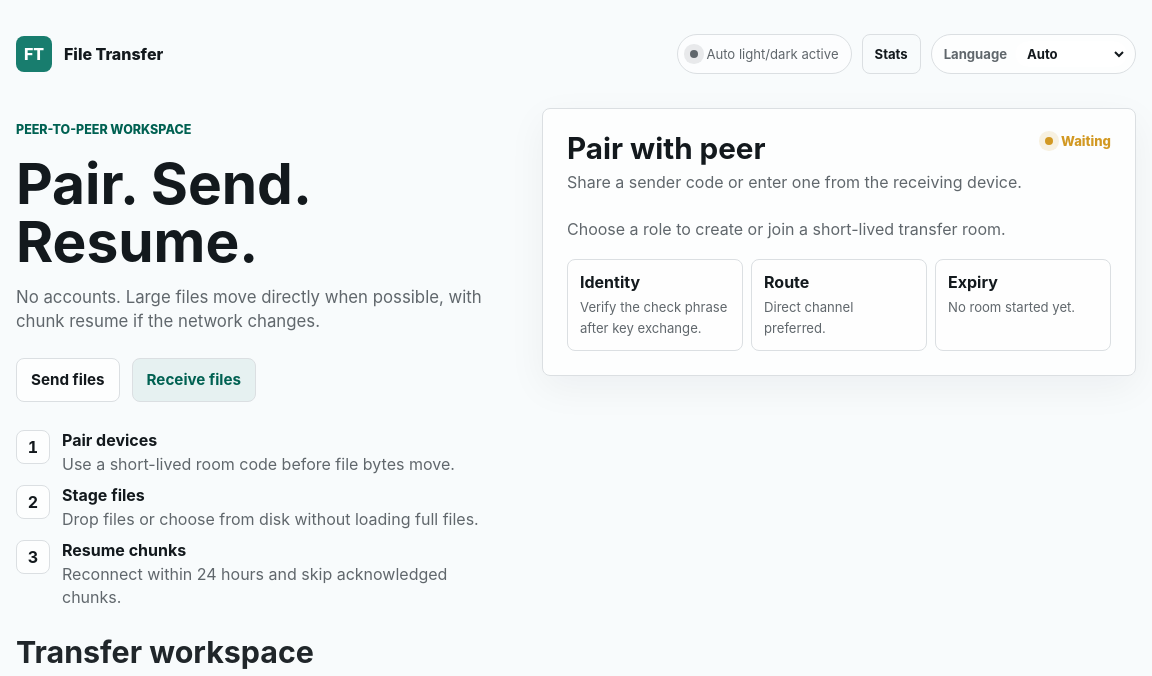
Test: App › shows pairing code input when receiving files
The image size is (1152, 676).
Click the button "Receive files": coordinates (194, 380) [132,358,256,402]
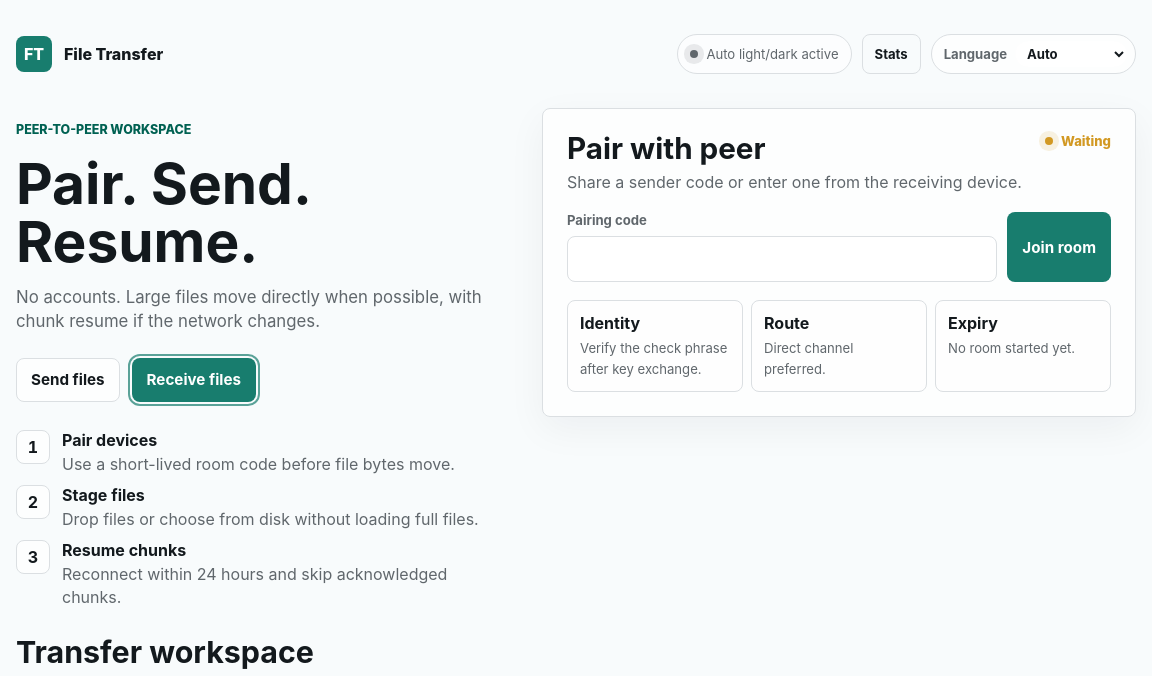
Expected: the field labelled "Pairing code" is shown, [567,236,997,282]
